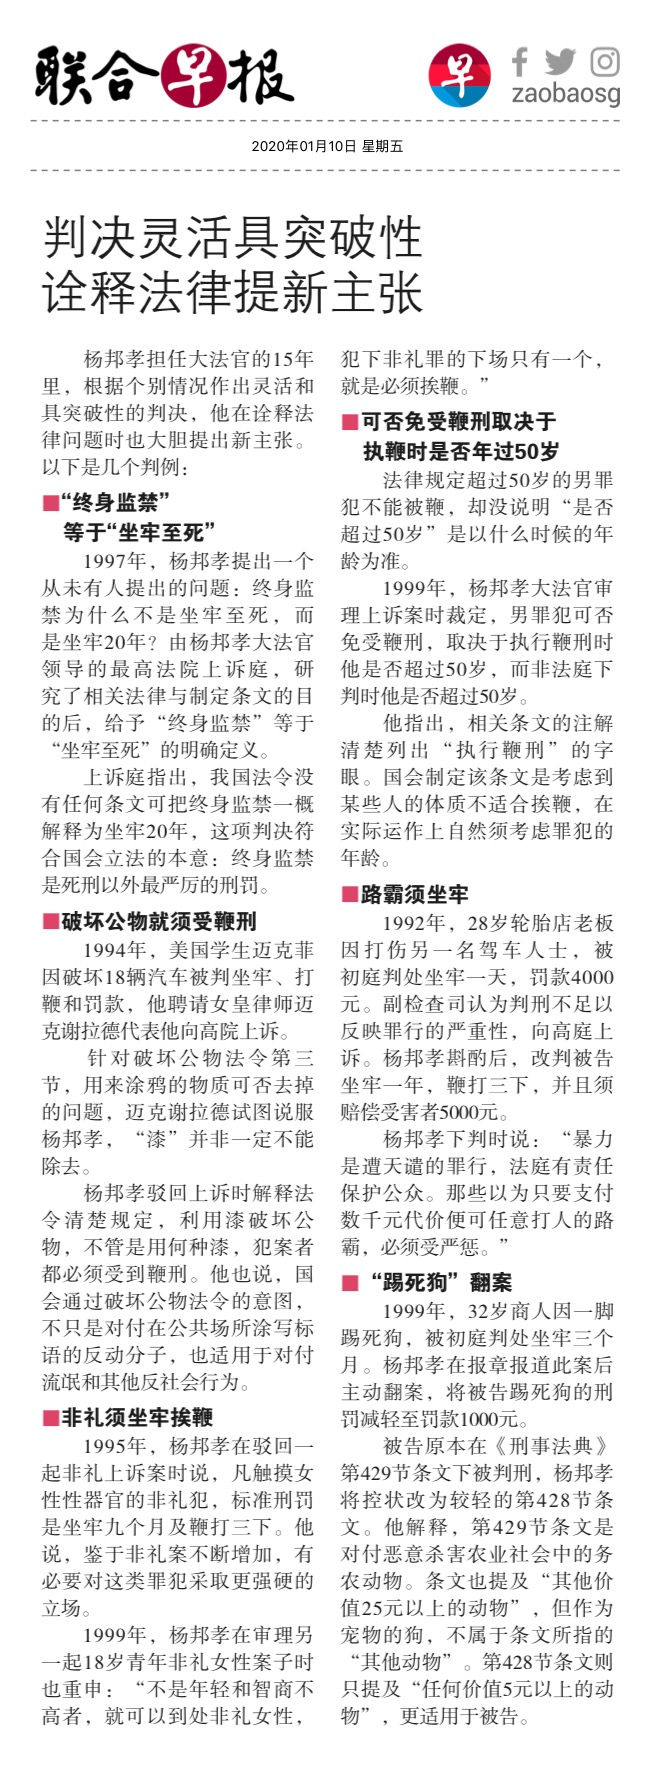heading: (36, 201, 433, 326)
